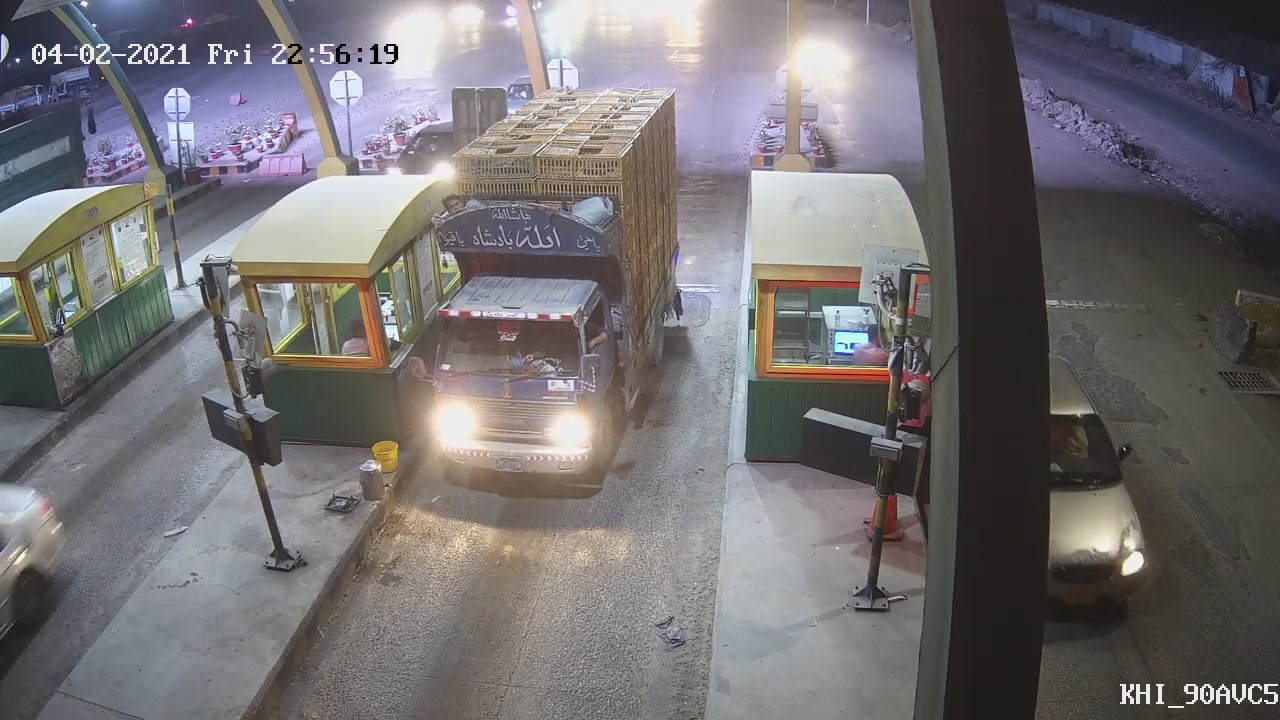F5: (404, 173, 641, 481)
